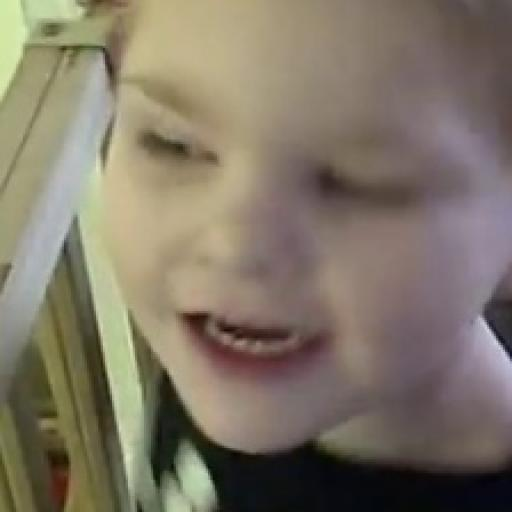Autism: (73, 0, 510, 512)
